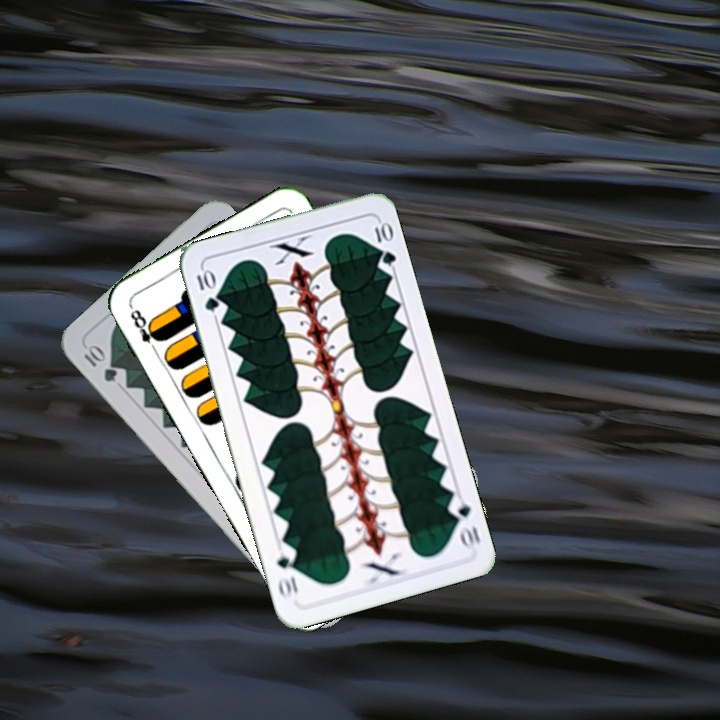E8: (125, 302, 165, 356)
G10: (444, 492, 483, 553), (79, 341, 120, 385), (192, 265, 222, 314)
